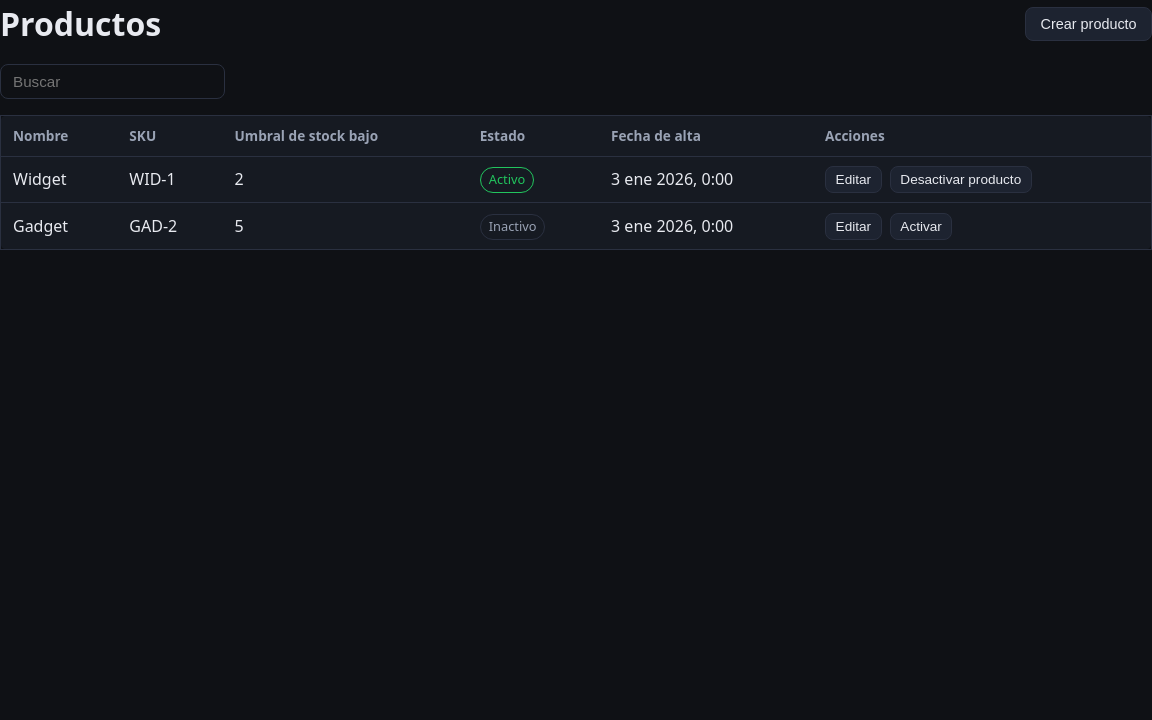
it: R-UI-CRM-6: create product › R-UI-CRM-6: threshold −1 → localized client error, NO request
Check: the text "Widget" is shown, box [0, 156, 117, 203]
Click the button "Crear producto".
click(1089, 24)  # box [1025, 7, 1151, 41]
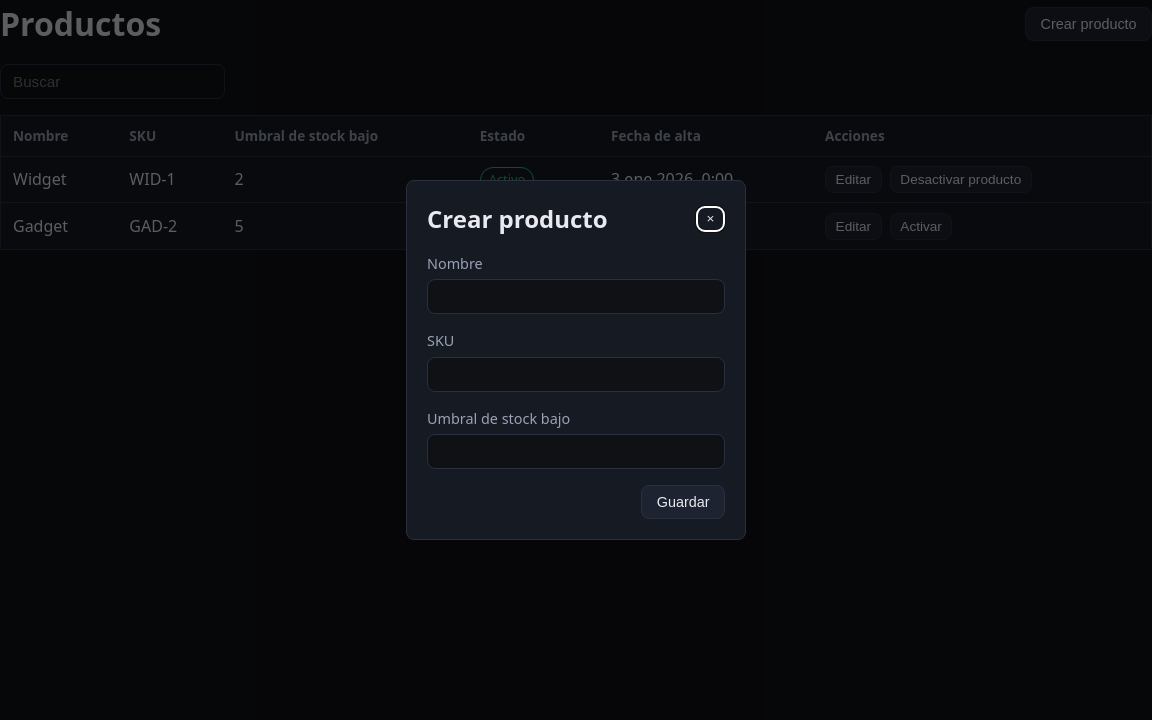
Type "Nuevo" into the field labelled "Nombre".
click(576, 297); type("Nuevo")  # box [427, 279, 725, 314]
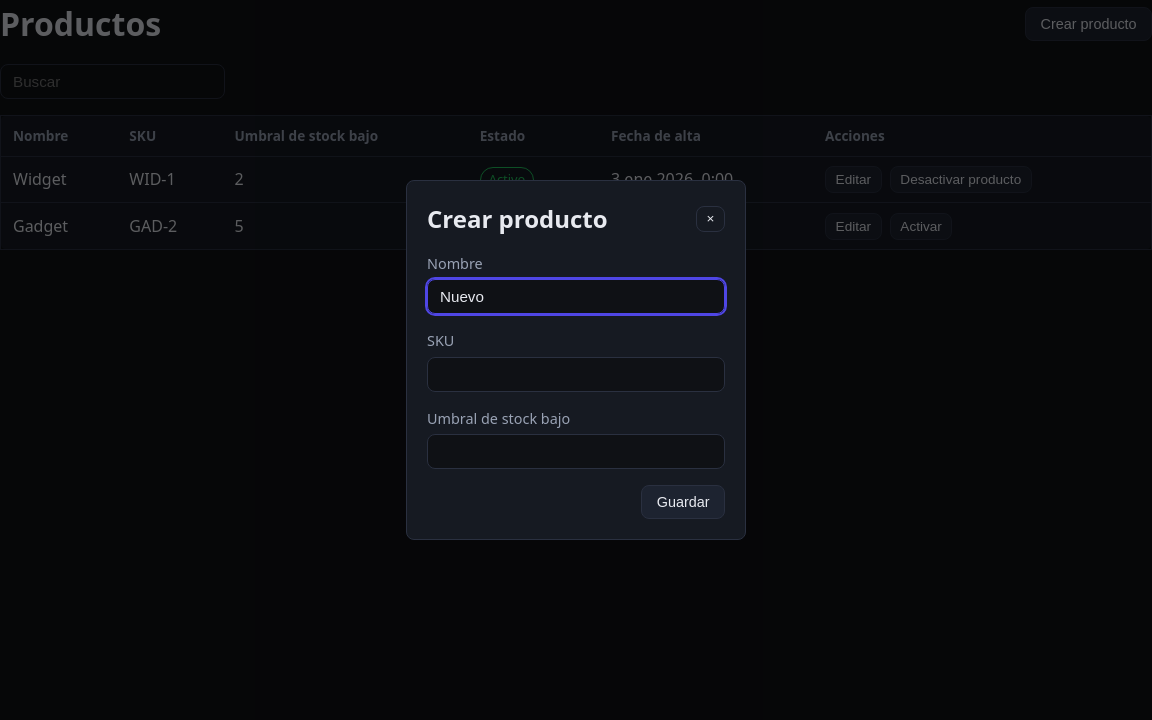
Type "NEW-1" into the field labelled "SKU".
click(576, 374); type("NEW-1")  # box [427, 357, 725, 392]
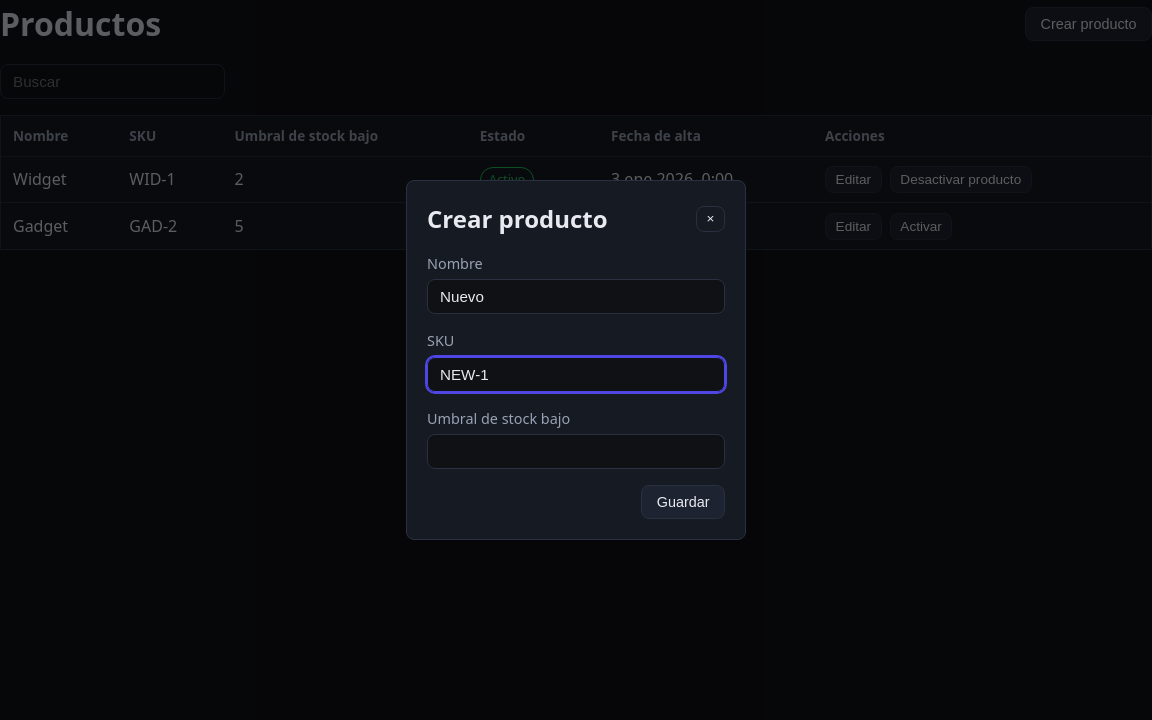
Type "-1" into the number field labelled "Umbral de stock bajo".
click(576, 452); type("-1")  # box [427, 434, 725, 469]
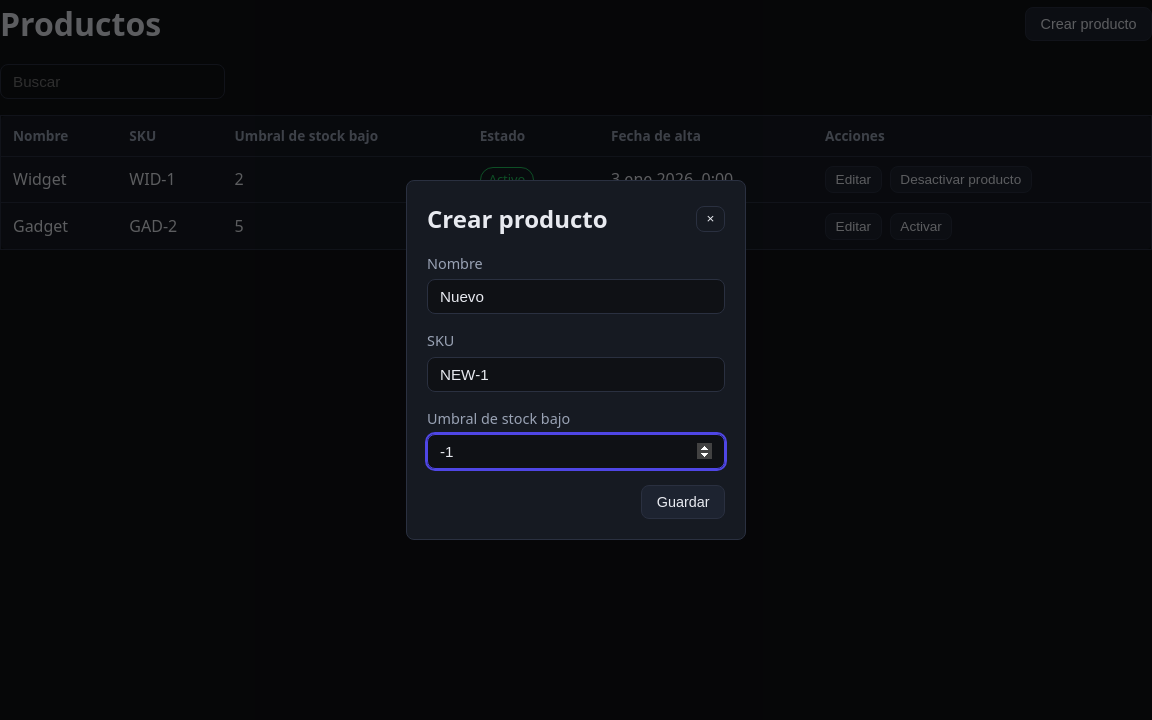
Click the button "Guardar".
click(683, 502)  # box [641, 485, 725, 519]
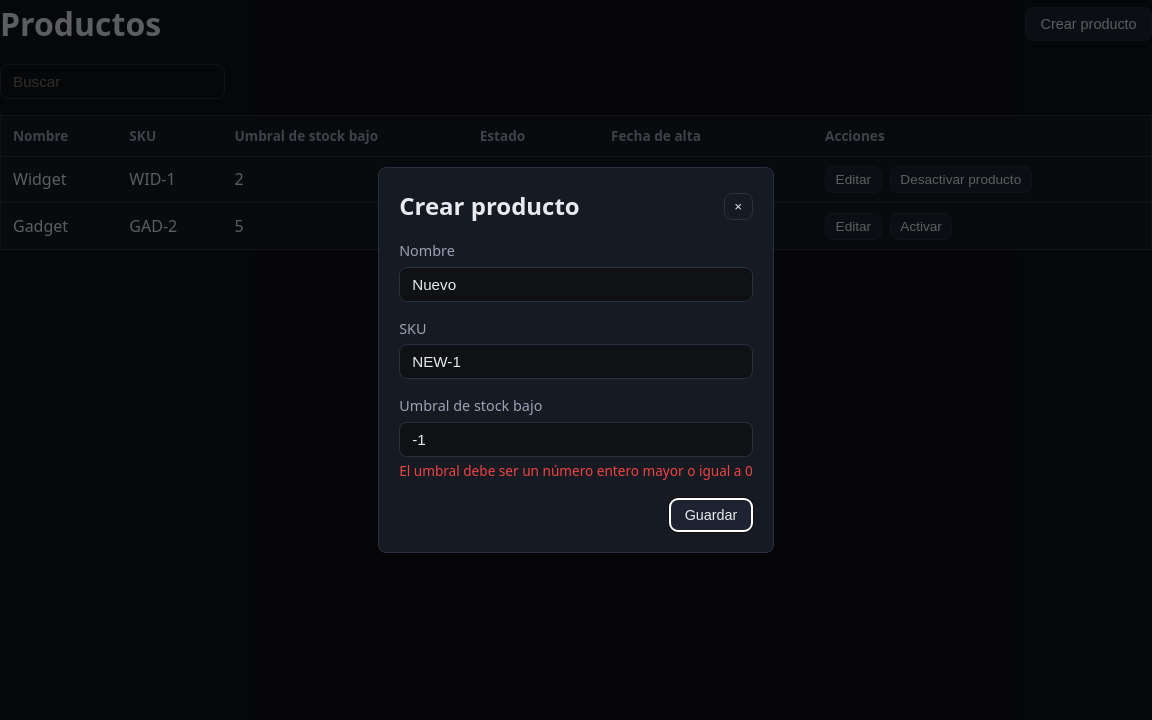
Check: the text "El umbral debe ser un número entero mayor o igual a 0" is shown, box [399, 461, 753, 482]
